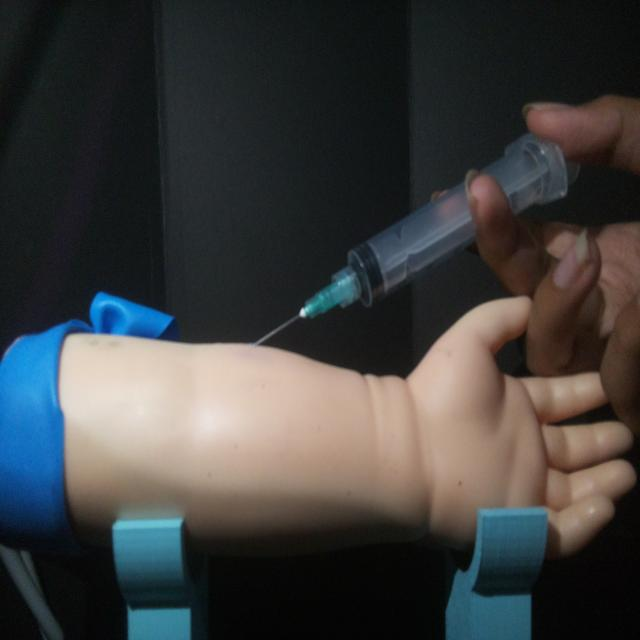28deg: (247, 126, 579, 350)
